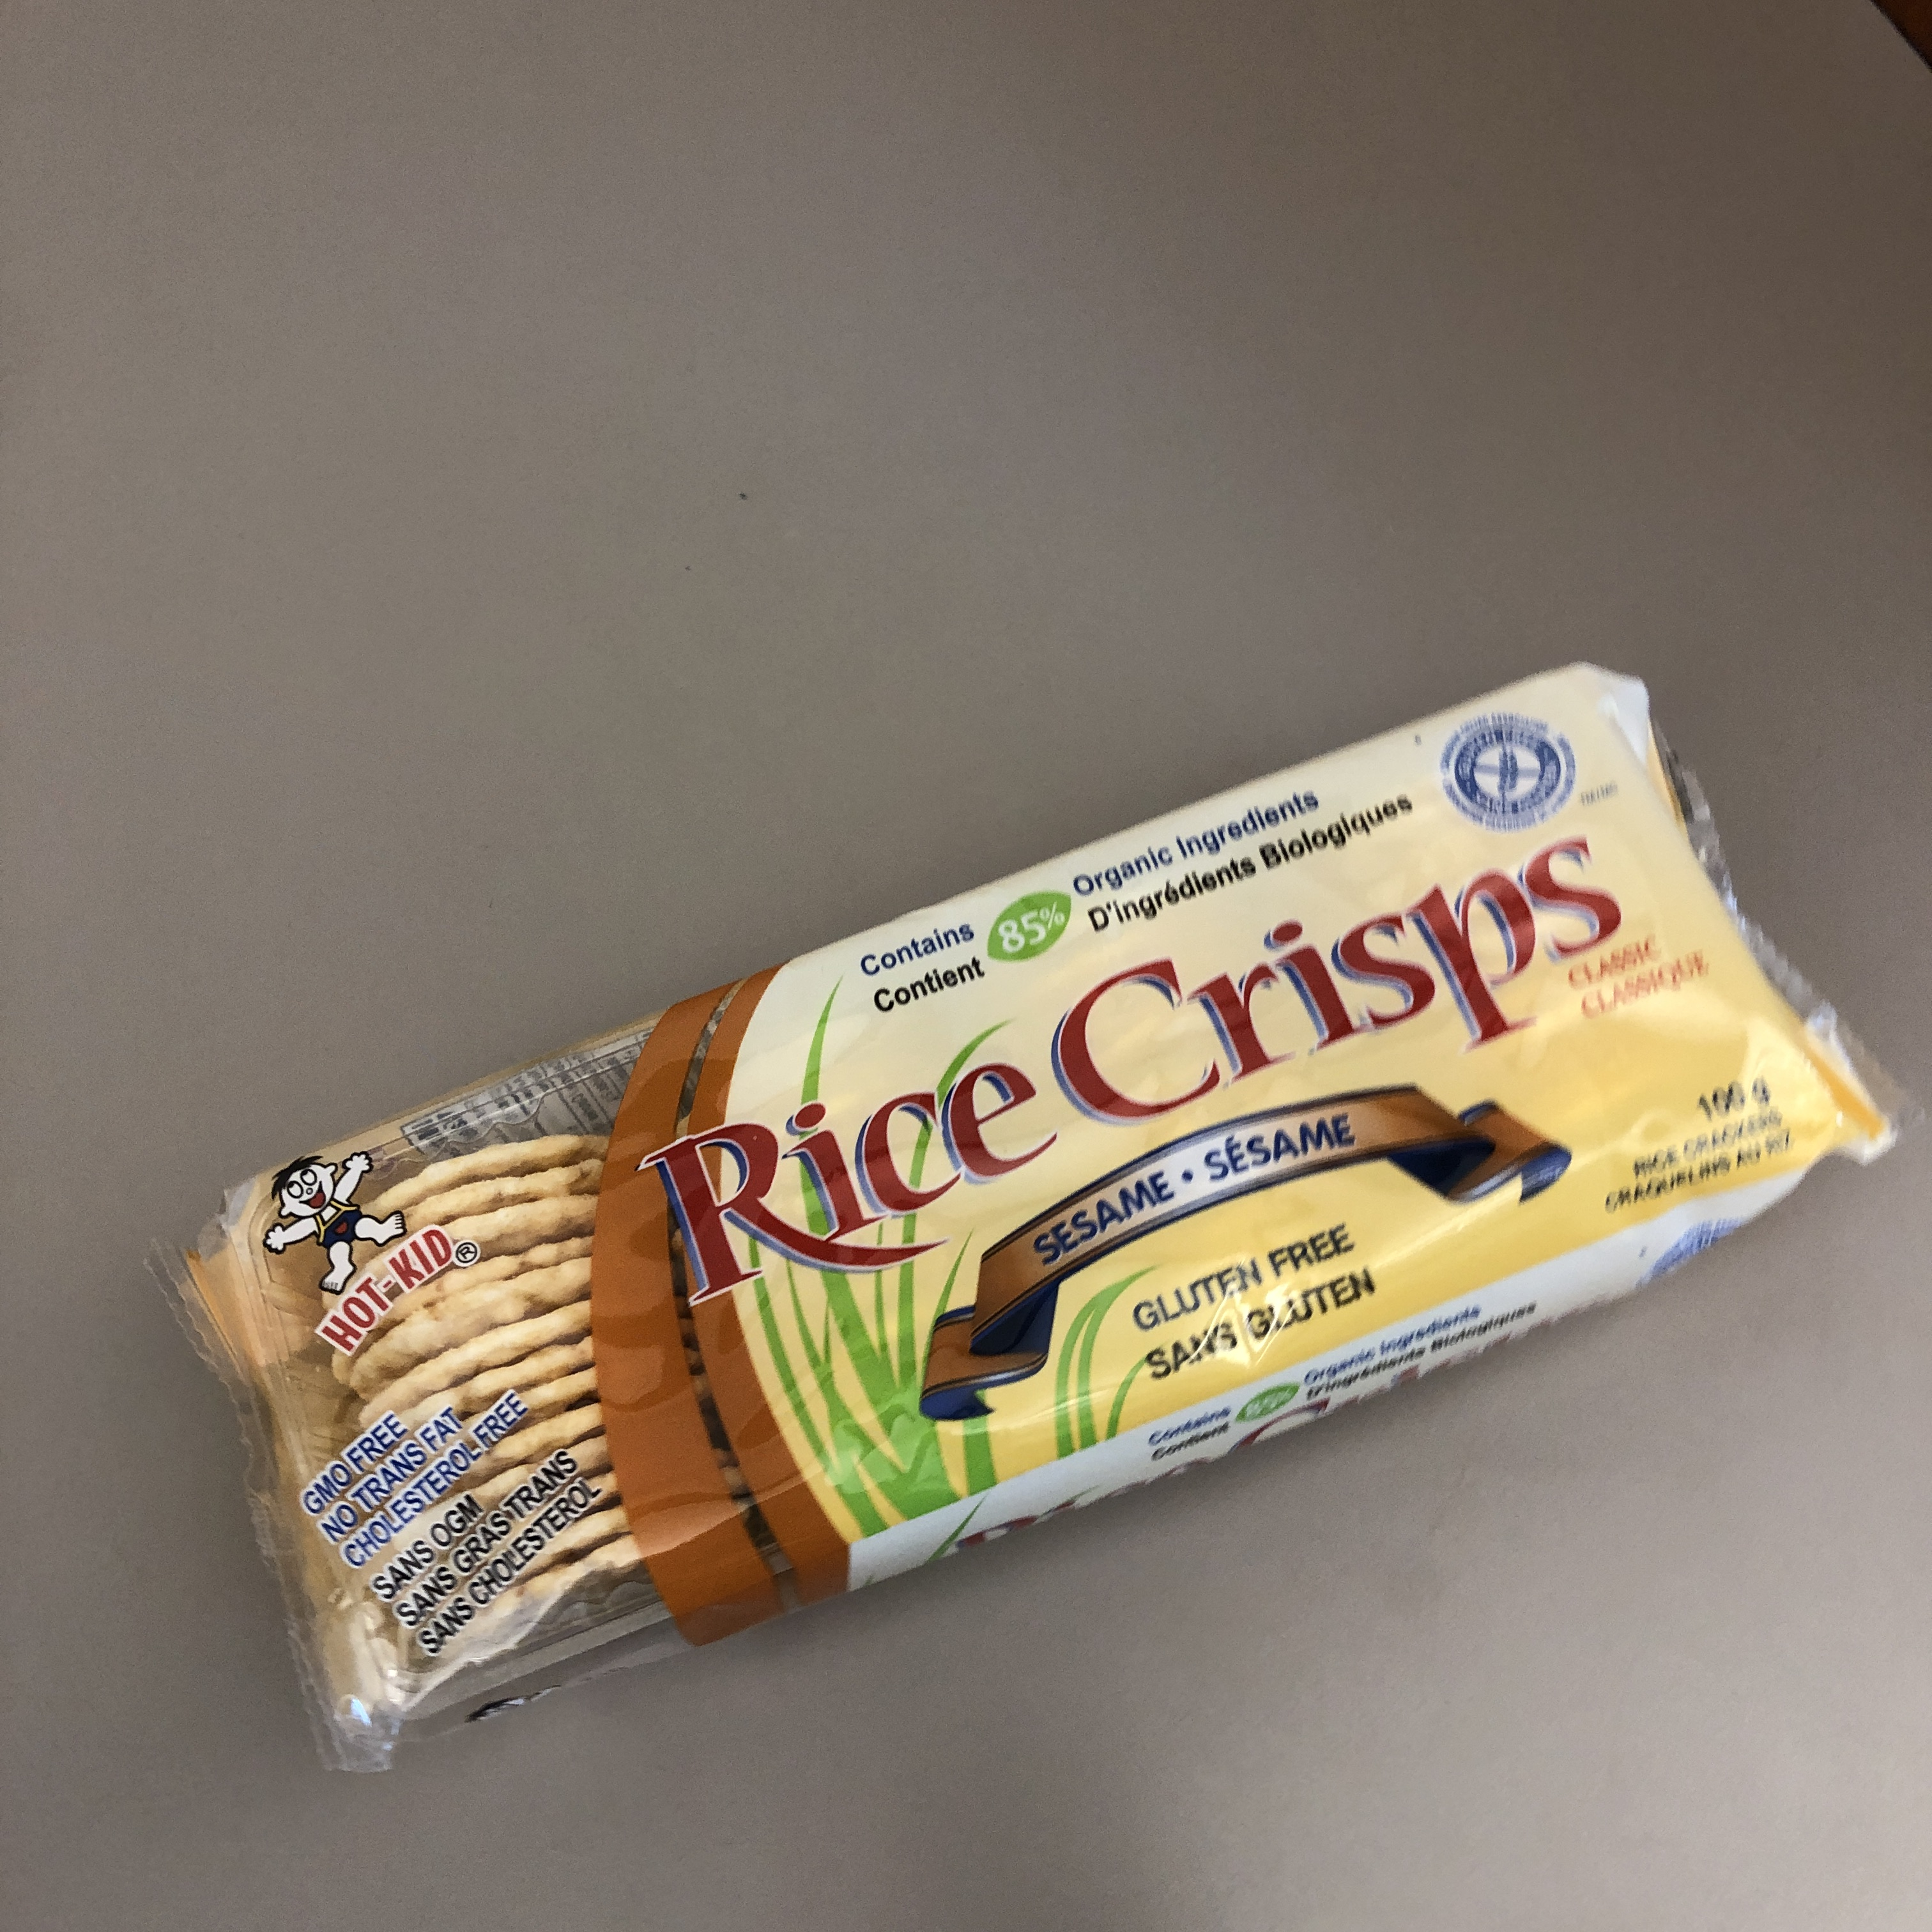hot_kid_rice_crisps_sesame: (709, 203, 1754, 1608)
